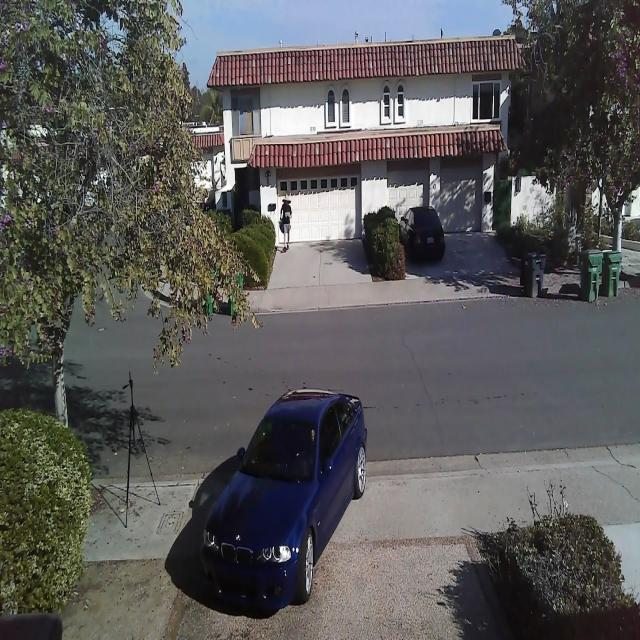Carbeetle: (189, 377, 380, 622)
Civilian: (393, 202, 454, 270)
